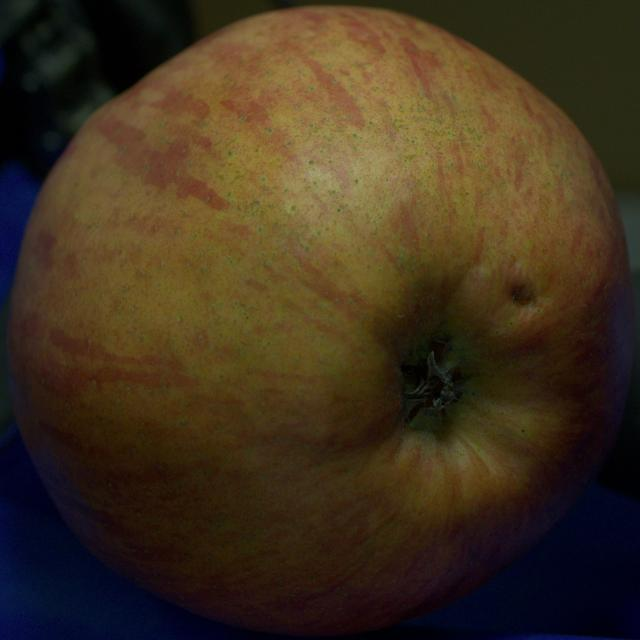apple: (8, 7, 634, 635)
pest: (511, 284, 534, 305)
